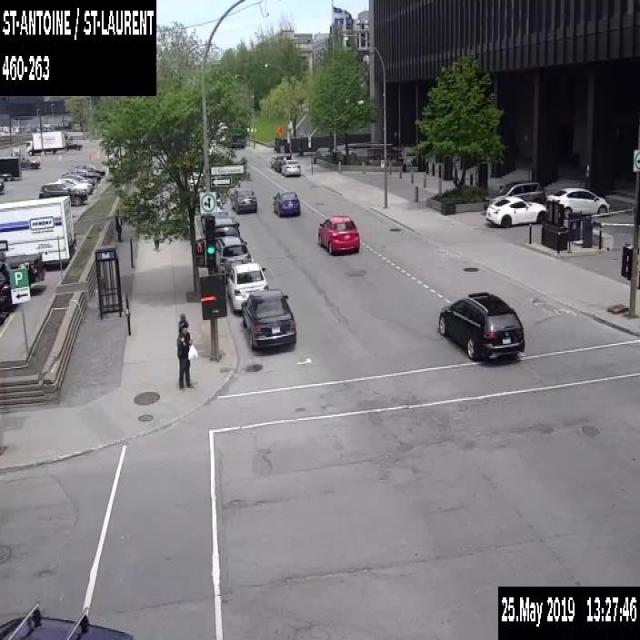construction: (277, 126, 284, 134)
pedestrian: (176, 324, 196, 390), (114, 208, 123, 242), (177, 312, 188, 333), (153, 230, 159, 251)
vehicle: (438, 289, 526, 364), (0, 194, 75, 268), (0, 601, 132, 639), (240, 288, 296, 350), (226, 260, 268, 314), (545, 186, 610, 218), (485, 195, 547, 226), (482, 180, 545, 209), (317, 212, 359, 254), (215, 235, 251, 281), (0, 249, 44, 284), (38, 181, 86, 205), (25, 130, 65, 154), (201, 208, 229, 237), (272, 189, 300, 216), (214, 216, 240, 243), (230, 187, 257, 213), (49, 177, 93, 192), (0, 270, 14, 311), (0, 155, 22, 180), (61, 169, 101, 181), (63, 173, 96, 186), (72, 162, 105, 174), (281, 158, 300, 176), (16, 154, 39, 168), (274, 154, 291, 171), (65, 140, 82, 149), (270, 153, 279, 169), (64, 131, 72, 139), (0, 177, 4, 191)
